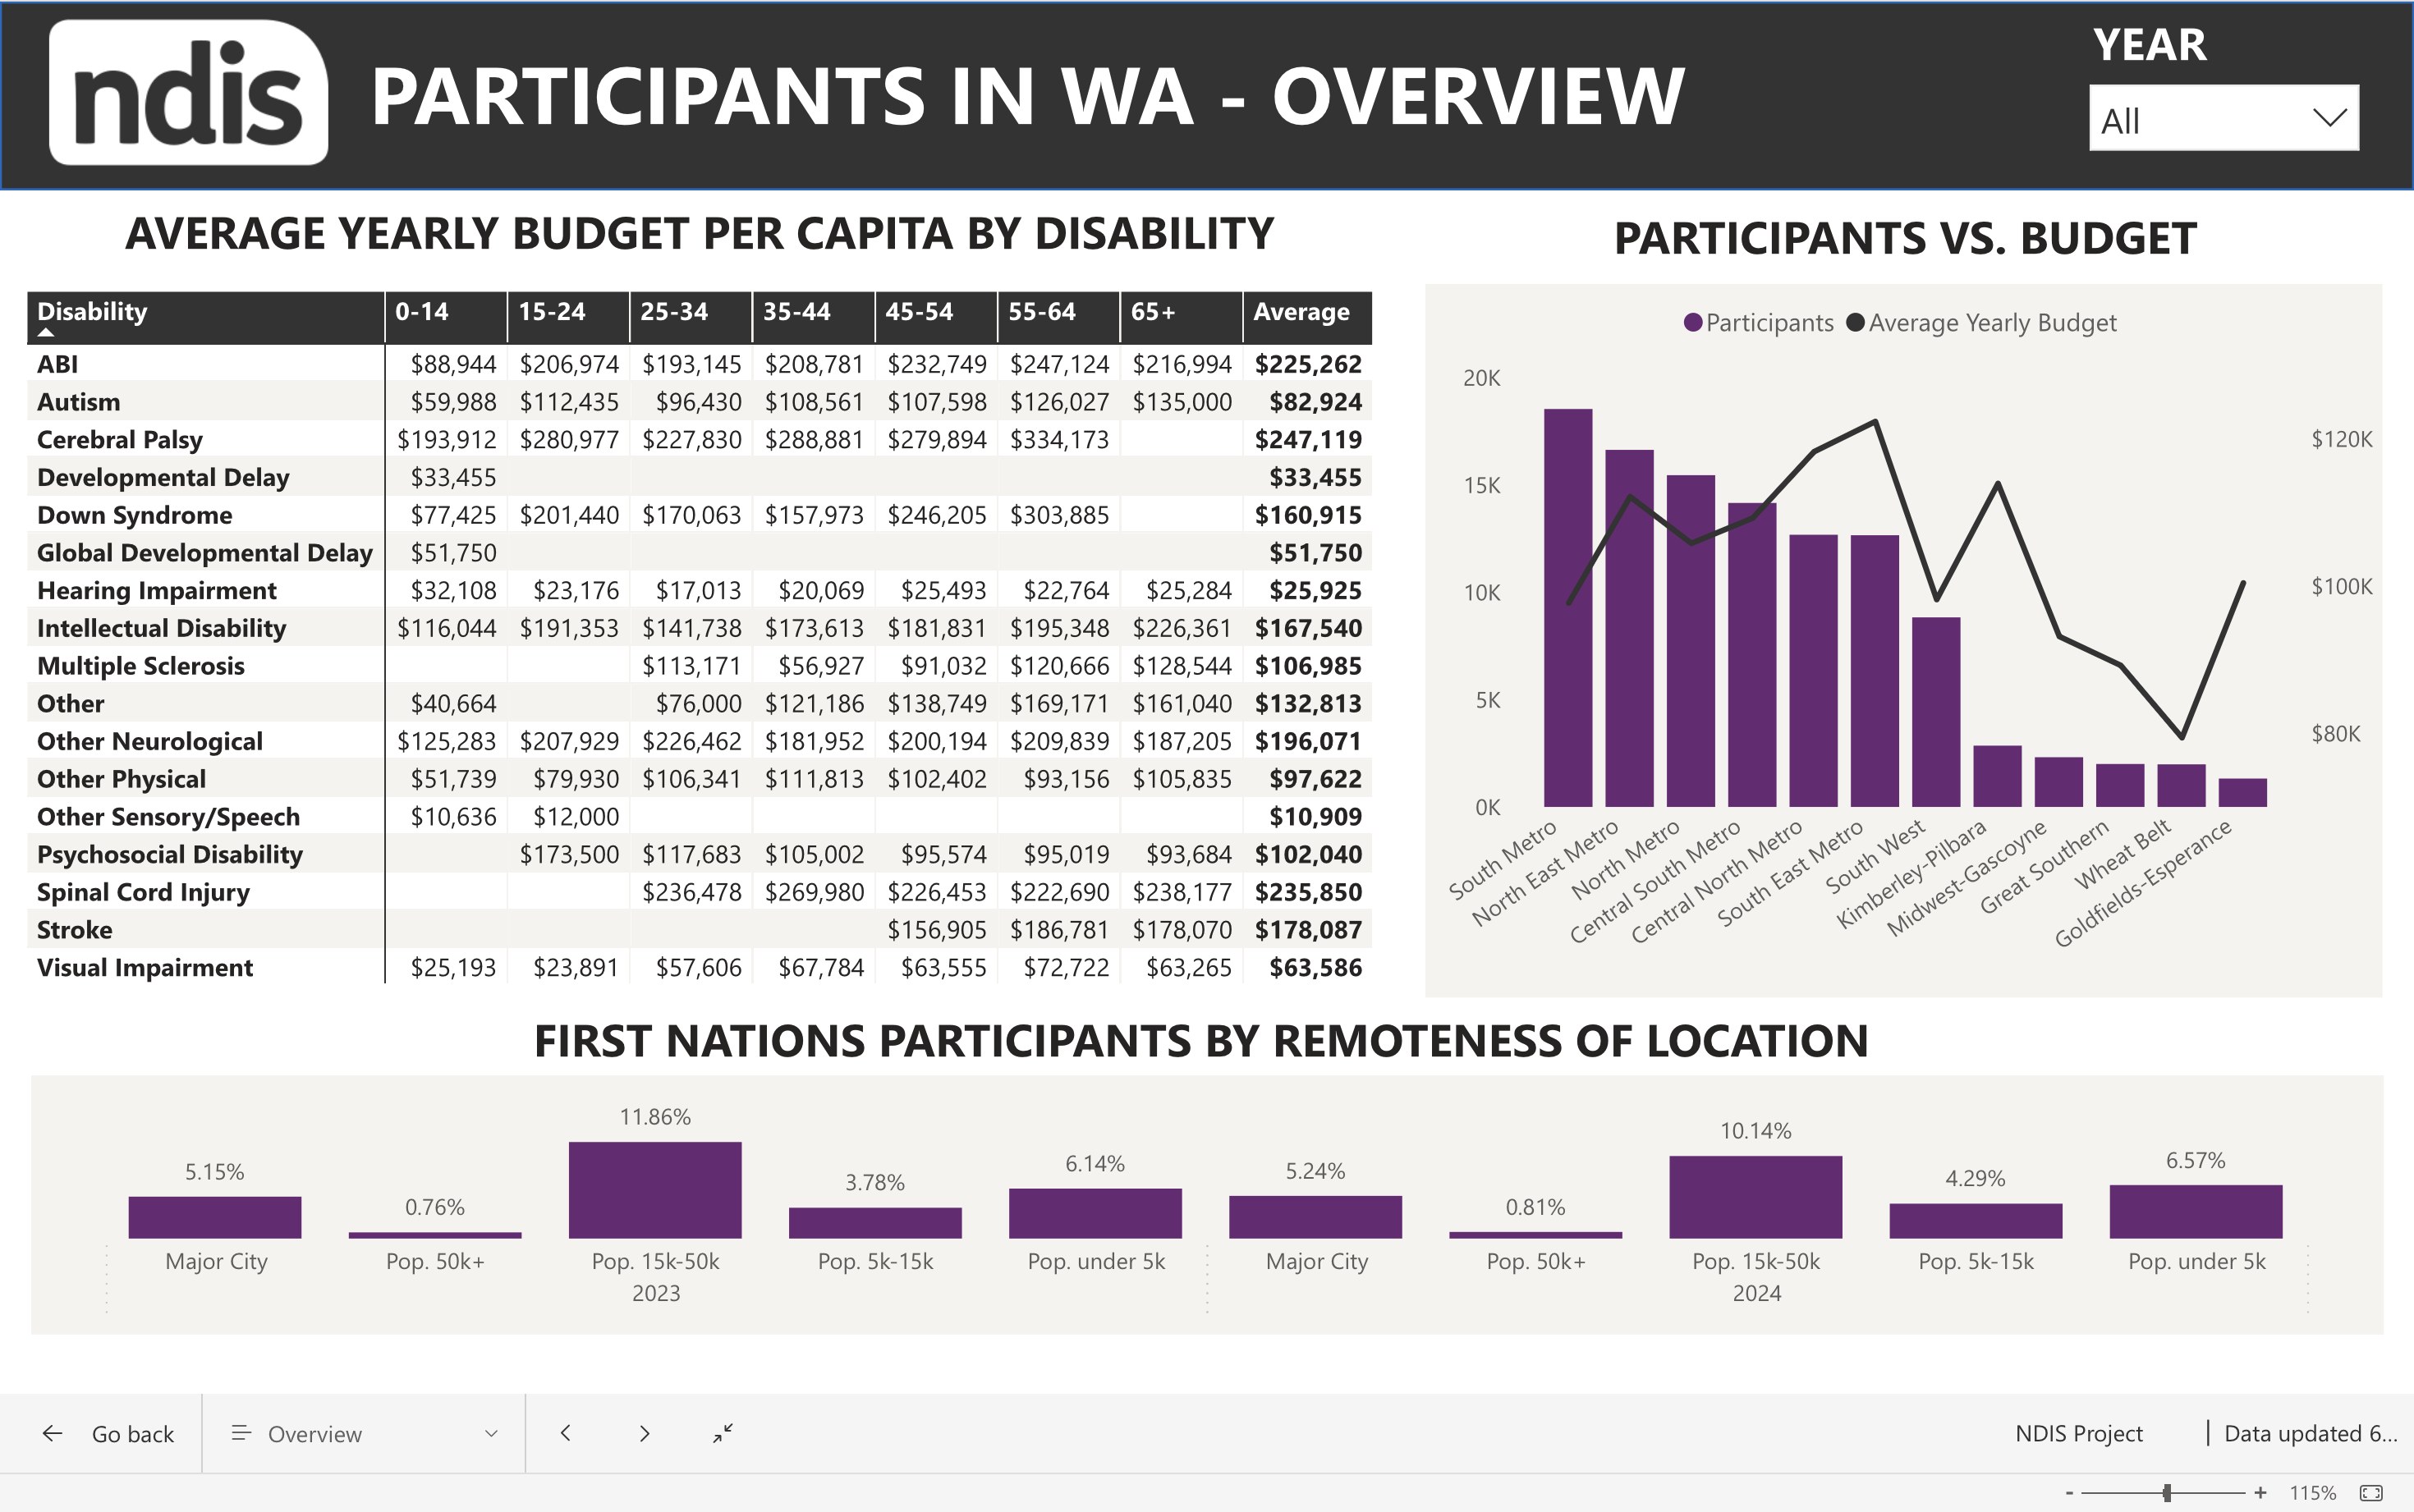

This screenshot's page, from the dashboard's own definition file:
{"tool":"powerbi","page":{"name":"Overview","canvas":[1280,720],"ordinal":1},"visuals":[{"type":"group","id":"g1","title":"Title","box":[0,0,1279.7,100.3],"z":0},{"type":"shape","box":[0,0,1280,100],"z":0,"group":"g1"},{"type":"group","id":"g2","title":"Group 1","box":[9.9,4.4,900.8,87.7],"z":0,"group":"g4"},{"type":"slicer","title":"Date","fields":{"Values":["Budgets.Date.Variation.Date Hierarchy.Year"]},"box":[1098.4,33.7,163,58.3],"z":0,"group":"g3"},{"type":"textbox","title":"Participants in WA","box":[190.9,13.7,719.8,71],"z":1000,"group":"g2"},{"type":"group","id":"g3","title":"Group 3","box":[1098.4,33.7,163,58.3],"z":1000,"group":"g4"},{"type":"image","title":"NDIS Logo","box":[9.9,4.4,181.1,87.7],"z":2000,"group":"g2"},{"type":"textbox","title":"Title","box":[1105,0,125.2,48.5],"z":3000},{"type":"textbox","title":"Title","box":[16.5,100.2,709.1,48.6],"z":4000},{"type":"pivotTable","title":"Yearly Budget by Disability","fields":{"Columns":["Budgets.Age_Group"],"Values":["Budgets.Weighted Average Budget"],"Rows":["Budgets.Disability"]},"box":[10,149.2,723.3,379.2],"z":5000},{"type":"clusteredColumnChart","title":"Title","fields":{"Category":["DateTable.Date.Variation.Date Hierarchy.Year","First Nations Participants.Short MMM Names"],"Y":["First Nations Participants.Percentage of Participants who are First Nations People"]},"box":[16.9,569.5,1247.3,137.6],"z":6000},{"type":"textbox","title":"Title","box":[844.2,102.5,331.7,42.2],"z":7000},{"type":"textbox","title":"Title","box":[86.6,528.1,1102,41.8],"z":8000},{"type":"lineClusteredColumnComboChart","title":"Average Yearly Budget by Service District","fields":{"Category":["Budgets.Service_District"],"Y":["Sum(Budgets.Total Participants)"],"Y2":["Budgets.Weighted Average Budget"]},"box":[756.2,149.5,507.7,378.7],"z":9000},{"type":"group","id":"g4","title":"Group 5","box":[9.9,4.4,1251.5,87.7],"z":23004,"group":"g1"}]}

Visuals, with their boxes on the page's 1280x720 design canvas (x1, y1, x2, y2). These are canvas units, not pixel positions in the 2414x1512 screenshot, which may show the page scaled, cropped or inside an application window:
"Title" group: {"left": 0, "top": 0, "right": 1280, "bottom": 100}
shape: {"left": 0, "top": 0, "right": 1280, "bottom": 100}
"Group 1" group: {"left": 10, "top": 4, "right": 911, "bottom": 92}
"Date" slicer: {"left": 1098, "top": 34, "right": 1261, "bottom": 92}
"Participants in WA" textbox: {"left": 191, "top": 14, "right": 911, "bottom": 85}
"Group 3" group: {"left": 1098, "top": 34, "right": 1261, "bottom": 92}
"NDIS Logo" image: {"left": 10, "top": 4, "right": 191, "bottom": 92}
"Title" textbox: {"left": 1105, "top": 0, "right": 1230, "bottom": 48}
"Title" textbox: {"left": 16, "top": 100, "right": 726, "bottom": 149}
"Yearly Budget by Disability" pivotTable: {"left": 10, "top": 149, "right": 733, "bottom": 528}
"Title" clusteredColumnChart: {"left": 17, "top": 570, "right": 1264, "bottom": 707}
"Title" textbox: {"left": 844, "top": 102, "right": 1176, "bottom": 145}
"Title" textbox: {"left": 87, "top": 528, "right": 1189, "bottom": 570}
"Average Yearly Budget by Service District" lineClusteredColumnComboChart: {"left": 756, "top": 150, "right": 1264, "bottom": 528}
"Group 5" group: {"left": 10, "top": 4, "right": 1261, "bottom": 92}
